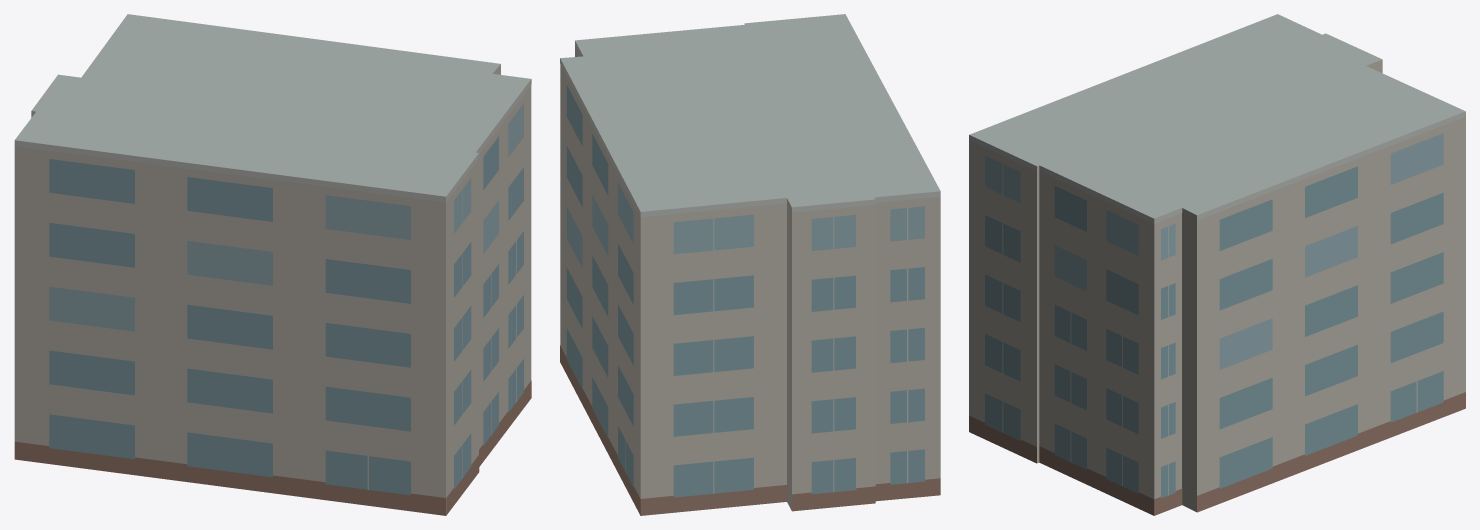
The model's file is survey-upis-32941440.glb.
3 views of the same model, side by side, from view 1: azimuth 30°, elevation 25°; view 2: azimuth 150°, elevation 25°; view 3: azimuth 270°, elevation 25° (orthographic). The views are drawn at different scales.
Visible parts, largest first — view 1: survey-upis-32941440.tmp; view 2: survey-upis-32941440.tmp; view 3: survey-upis-32941440.tmp.
Boxes of the visible parts, x1=… form: survey-upis-32941440.tmp: x1=14, y1=14, x2=531, y2=515; survey-upis-32941440.tmp: x1=560, y1=14, x2=940, y2=515; survey-upis-32941440.tmp: x1=969, y1=14, x2=1465, y2=515.
Bounding box in the file's own units: 20.09 × 13.6 × 20.61.
